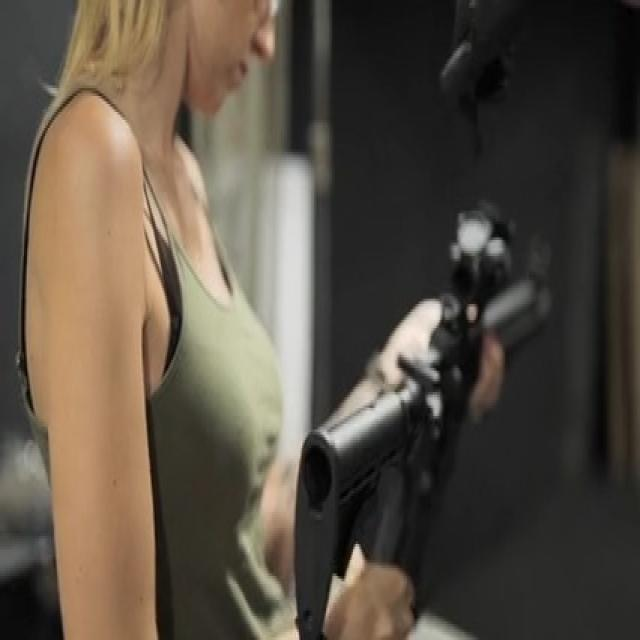Gun_Holder: (307, 169, 585, 640)
Person: (18, 0, 424, 640)
